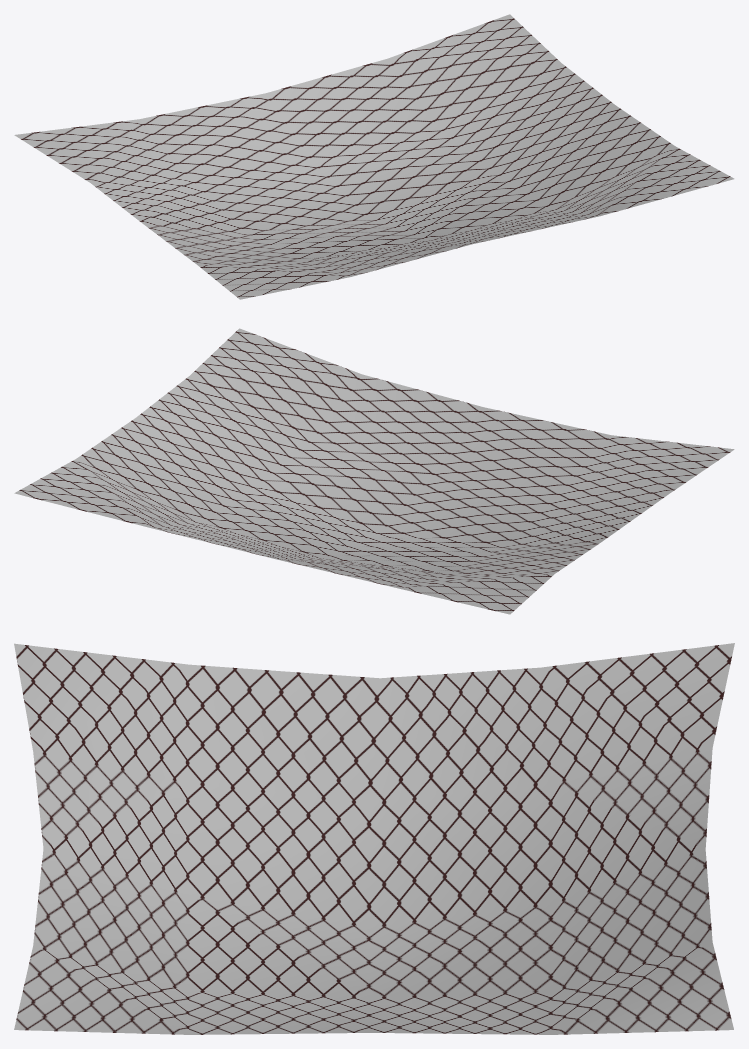
The model's file is ClothNet.FBX.
3 renders of one model, top to bottom at view 1: azimuth 30°, elevation 25°; view 2: azimuth 150°, elevation 25°; view 3: azimuth 270°, elevation 25°, orthographic. The views are drawn at different scales.
Visible parts, largest first — view 1: ClothNet; view 2: ClothNet; view 3: ClothNet.
Part boxes in pixels (x1,y1,x2,y2): ClothNet: (14, 14, 734, 299); ClothNet: (14, 328, 734, 614); ClothNet: (14, 643, 734, 1034).
Size of the model in its own units: 248 by 28.44 by 195.
1 material, 1 textured.
